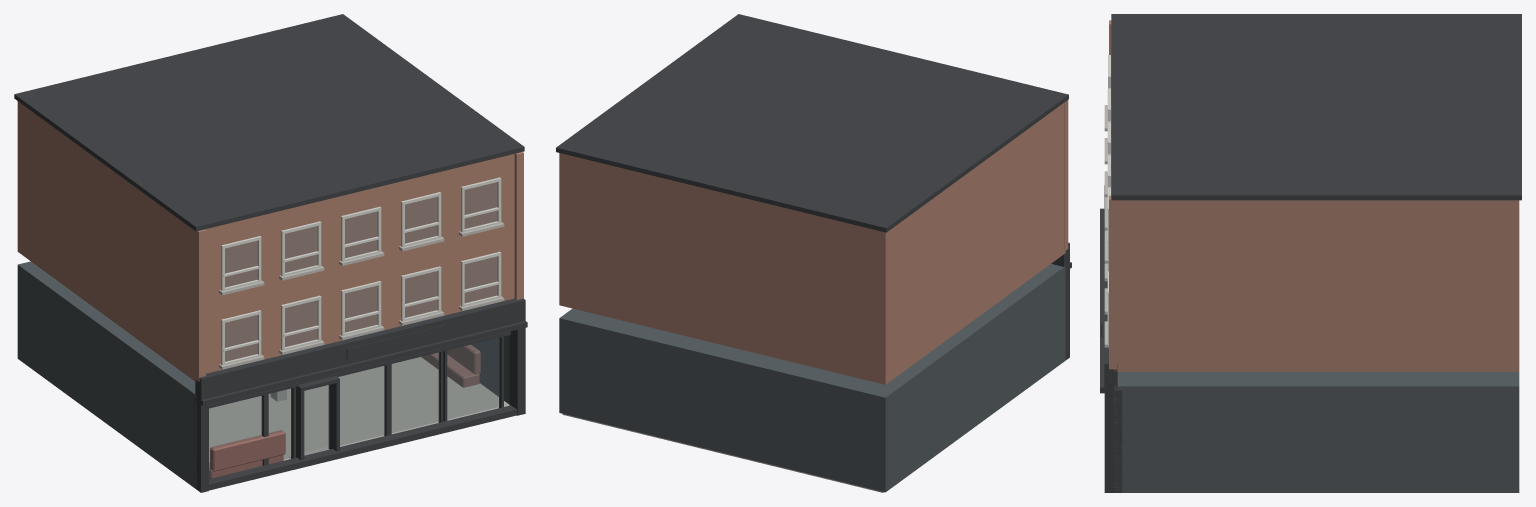
File: renee-blockout.glb
3 renders of one model, left to right at view 1: azimuth 30°, elevation 25°; view 2: azimuth 150°, elevation 25°; view 3: azimuth 270°, elevation 25°, orthographic. The views are drawn at different scales.
Visible parts, largest first — view 1: REN_UpperFacade_Main, REN_RoofCap, REN_Wall_Left, REN_Floor, REN_Fascia_Main, REN_GroundPlinth, REN_Glass_Bay_05, REN_Glass_Bay_04, REN_Glass_Bay_03, REN_CeilingPlane, REN_Fascia_LowerLip, REN_Glass_Bay_01 (+24 smaller); view 2: REN_UpperFacade_Main, REN_RoofCap, REN_Wall_Back, REN_Wall_Left, REN_CeilingPlane, REN_UpperPartyPier_Left, REN_Floor; view 3: REN_RoofCap, REN_UpperFacade_Main, REN_Wall_Right, REN_CeilingPlane, REN_GroundPier_Right, REN_UpperPartyPier_Right, REN_Fascia_LowerLip, REN_Wall_Back, REN_Fascia_Main.
Part boxes in pixels (box(x1,y1,x2,y2)): REN_UpperFacade_Main: box(17, 101, 514, 382); REN_RoofCap: box(14, 14, 524, 231); REN_Wall_Left: box(17, 270, 196, 489); REN_Floor: box(209, 357, 509, 462); REN_Fascia_Main: box(195, 298, 525, 399); REN_GroundPlinth: box(209, 405, 516, 490); REN_Glass_Bay_05: box(447, 338, 499, 419); REN_Glass_Bay_04: box(392, 353, 438, 432); REN_Glass_Bay_03: box(338, 366, 384, 445); REN_CeilingPlane: box(17, 261, 196, 399); REN_Fascia_LowerLip: box(195, 321, 527, 406); REN_Glass_Bay_01: box(209, 396, 261, 477); REN_UpperFacade_Main: box(559, 103, 1065, 384); REN_RoofCap: box(556, 14, 1068, 232); REN_Wall_Back: box(559, 320, 887, 492); REN_Wall_Left: box(881, 268, 1065, 490); REN_CeilingPlane: box(559, 264, 1065, 401); REN_UpperPartyPier_Left: box(1064, 100, 1068, 251); REN_Floor: box(562, 414, 883, 492); REN_RoofCap: box(1111, 14, 1521, 200); REN_UpperFacade_Main: box(1114, 200, 1519, 371); REN_Wall_Right: box(1114, 388, 1518, 492); REN_CeilingPlane: box(1114, 372, 1519, 390); REN_GroundPier_Right: box(1104, 389, 1122, 492); REN_UpperPartyPier_Right: box(1109, 195, 1116, 369); REN_Fascia_LowerLip: box(1100, 208, 1117, 393); REN_Wall_Back: box(1513, 390, 1519, 492); REN_Fascia_Main: box(1104, 185, 1117, 387).
Size of the model in its own units: 13.98 by 10.8 by 13.75.
